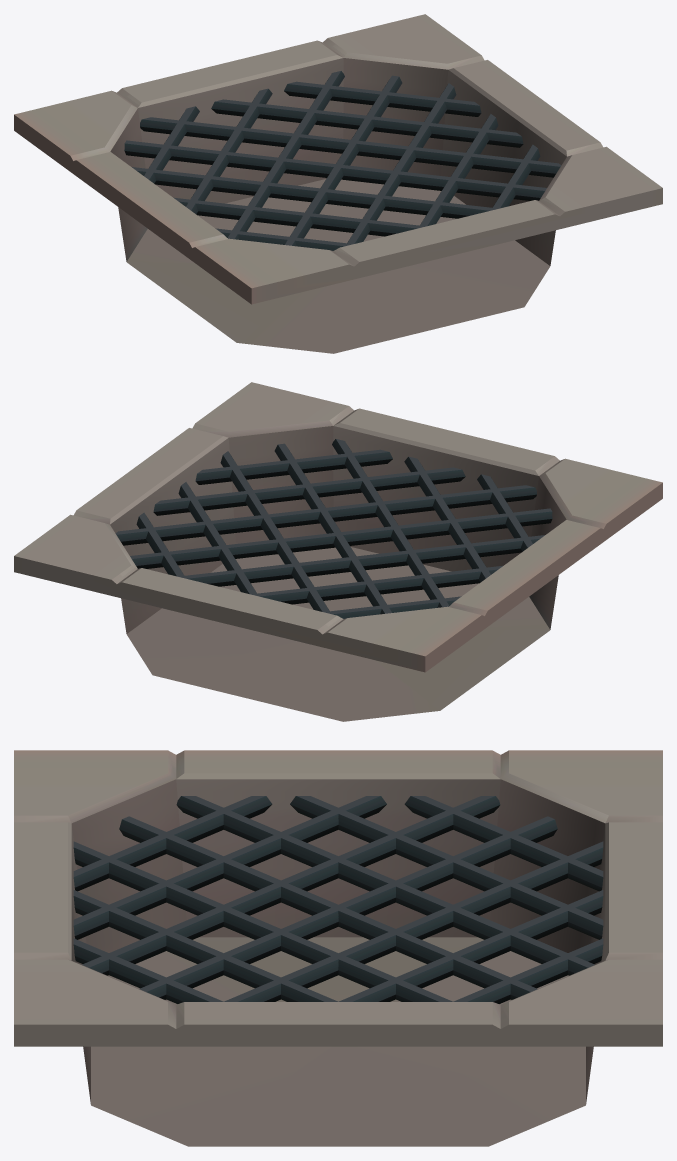
File: floor_tile_big_grate.glb
3 renders of one model, top to bottom at view 1: azimuth 30°, elevation 25°; view 2: azimuth 150°, elevation 25°; view 3: azimuth 270°, elevation 25°, orthographic. The views are drawn at different scales.
Parts seen in each view (by area): view 1: floor_tile_big_grate; view 2: floor_tile_big_grate; view 3: floor_tile_big_grate.
Part boxes in pixels (bbox=[...]): floor_tile_big_grate: bbox=[14, 14, 662, 353]; floor_tile_big_grate: bbox=[14, 382, 662, 721]; floor_tile_big_grate: bbox=[14, 750, 662, 1146].
Bounding box in the file's own units: 4 × 1.05 × 4.
Materials: 1 (1 with a texture image).
